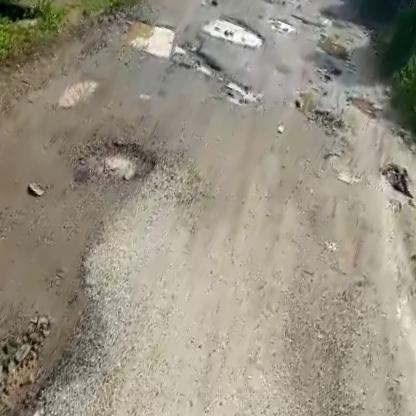pothole: (0, 260, 86, 416), (119, 11, 227, 82), (76, 121, 163, 198), (205, 8, 269, 55), (219, 77, 263, 113)
